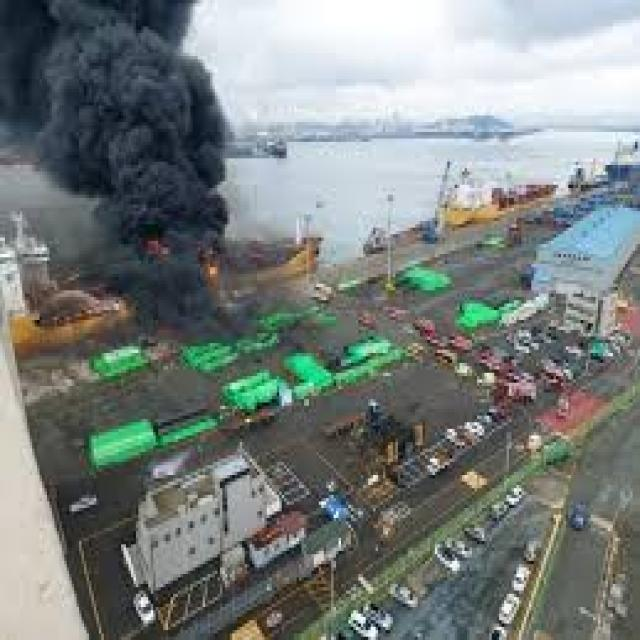explosion: (0, 0, 259, 366)
